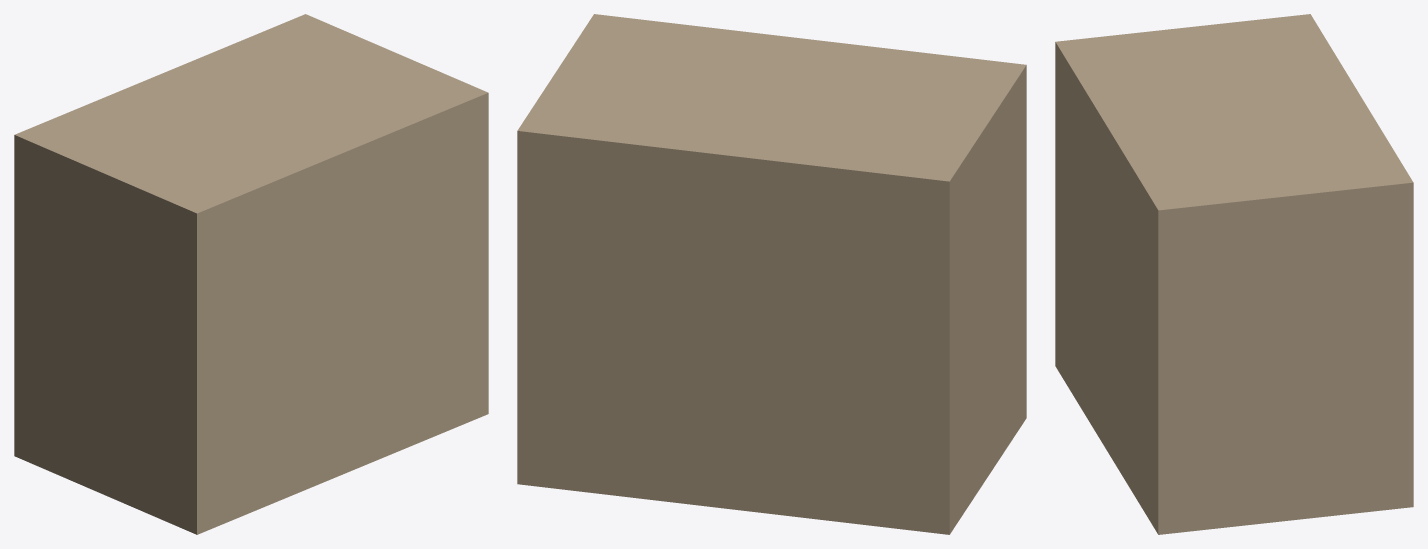
Rendered from bld_107639466.dae.
3 renders of one model, left to right at view 1: azimuth 30°, elevation 25°; view 2: azimuth 150°, elevation 25°; view 3: azimuth 270°, elevation 25°, orthographic. The views are drawn at different scales.
Visible parts, largest first — view 1: bld_107639466; view 2: bld_107639466; view 3: bld_107639466.
Part boxes in pixels (x1=…): bld_107639466: x1=14, y1=14, x2=488, y2=534; bld_107639466: x1=517, y1=14, x2=1026, y2=534; bld_107639466: x1=1055, y1=14, x2=1413, y2=534.
Bounding box in the file's own units: 10.39 × 8 × 8.
